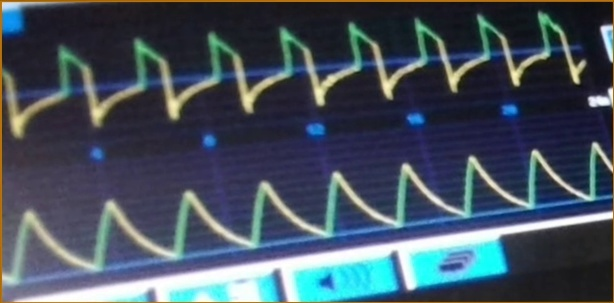Accumulation Flow: (6, 10, 582, 135)
Volume: (4, 142, 613, 280)
